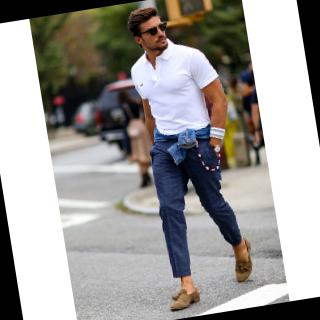loafers: (225, 225, 268, 288), (160, 266, 210, 316)
